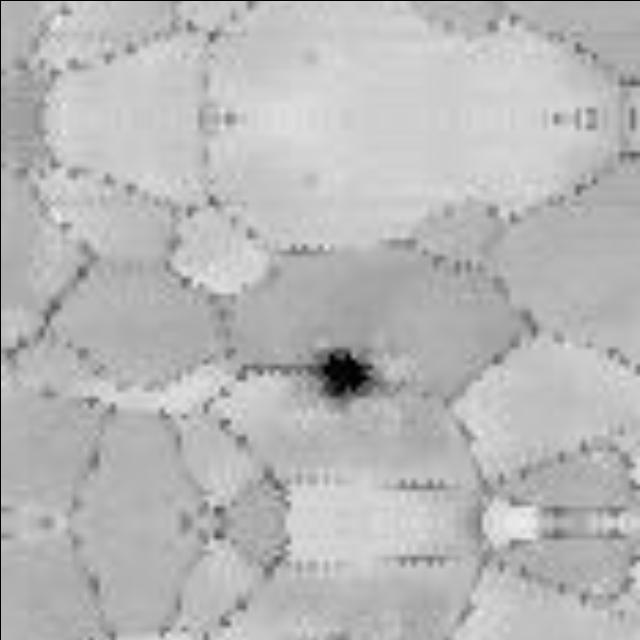good_void: (310, 340, 381, 410)
